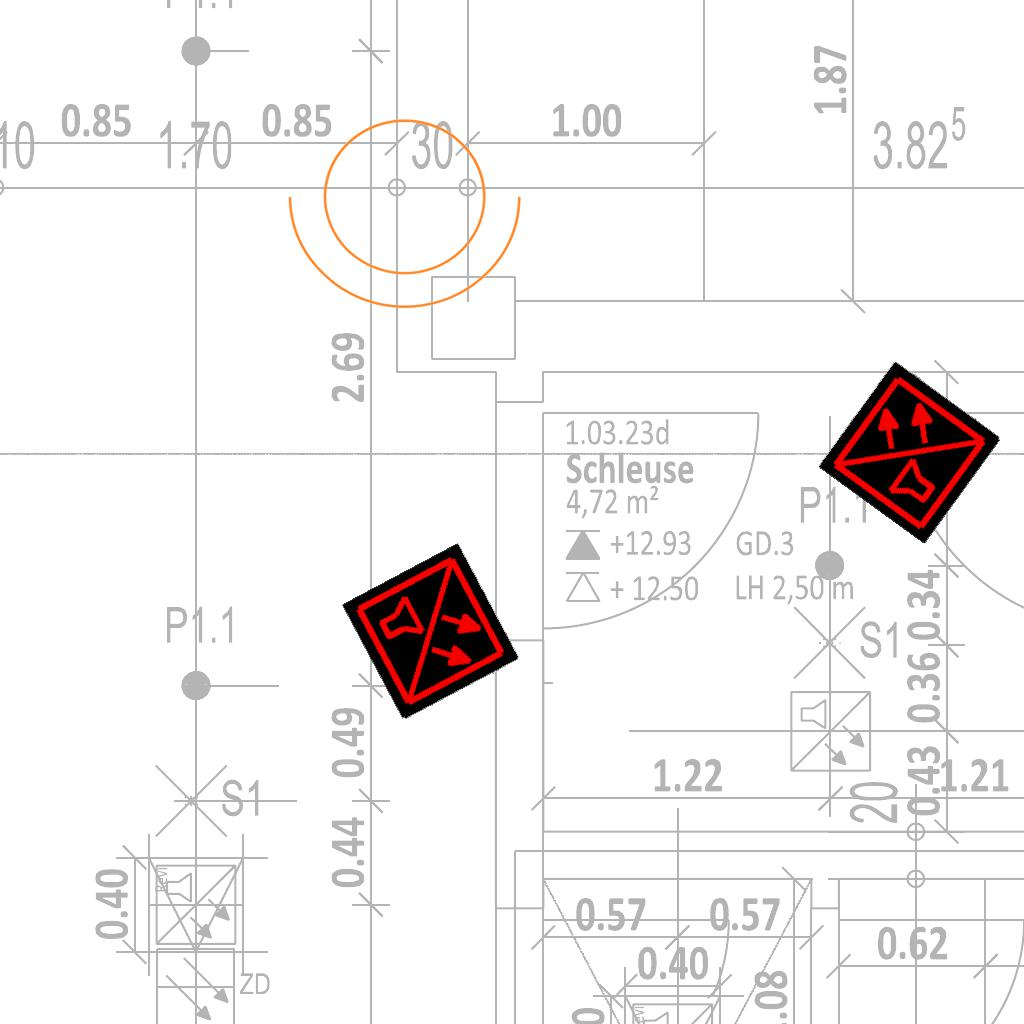OKW_Multisensormelder_(Kombination_optischer_Rauch-Kahlenmonoxid_Waerme-Melder): (817, 359, 1003, 545), (341, 542, 521, 722)
Scheinwerfer_fuer_Alarmbeleuchtung: (279, 94, 543, 319)
